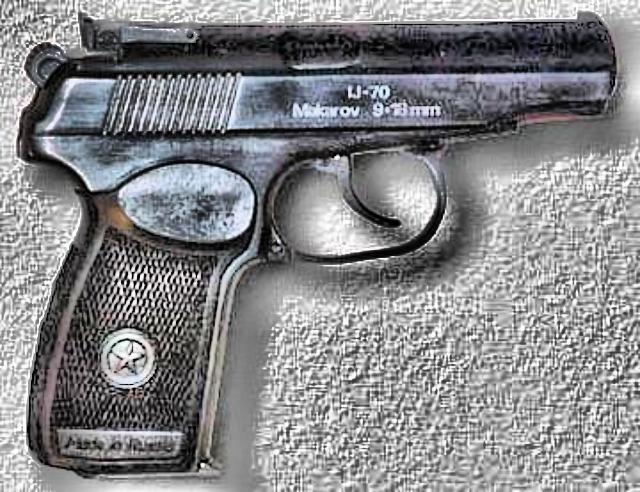pistol: (17, 9, 616, 473)
